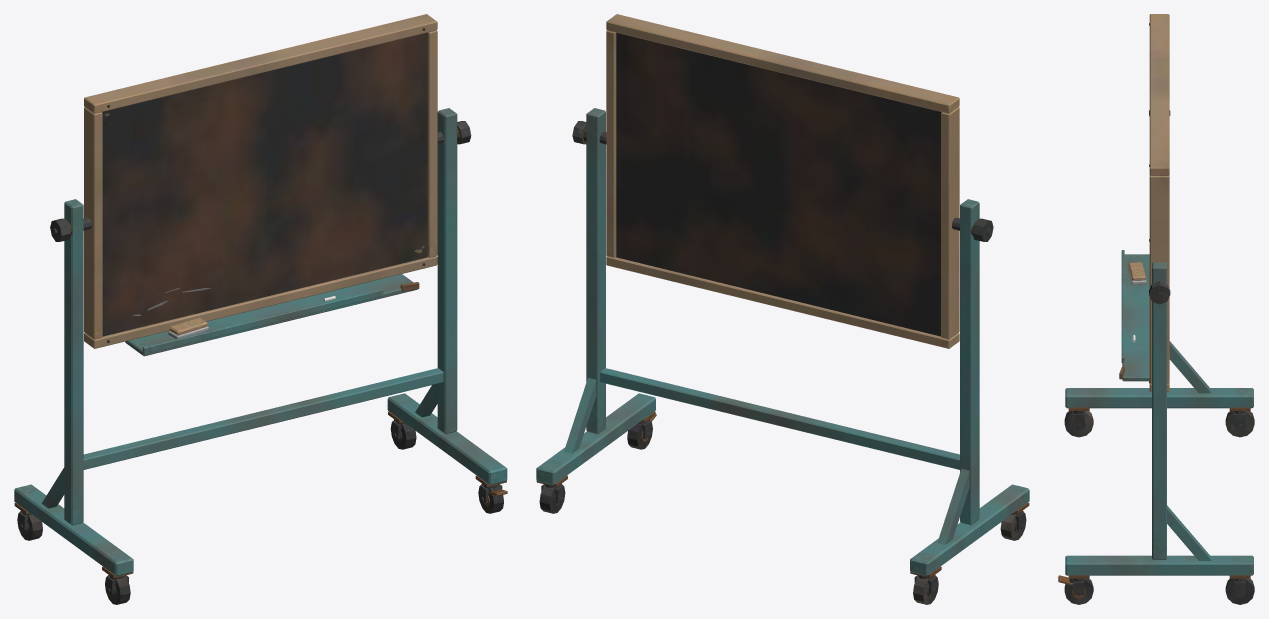
File: SE14_rolling_blackboard.glb
The picture shows the model from 3 angles, left to right: view 1: azimuth 30°, elevation 25°; view 2: azimuth 150°, elevation 25°; view 3: azimuth 270°, elevation 25°; orthographic projection. The views are drawn at different scales.
Parts seen in each view (by area): view 1: Board core; view 2: Board core; view 3: Board core.
Boxes of the visible parts, left/top/right/bottom form: Board core: left=14, top=14, right=507, bottom=604; Board core: left=536, top=14, right=1029, bottom=604; Board core: left=1058, top=14, right=1254, bottom=604.
Bounding box in the file's own units: 1.39 × 1.5 × 0.623.
12 materials, 12 textured.
